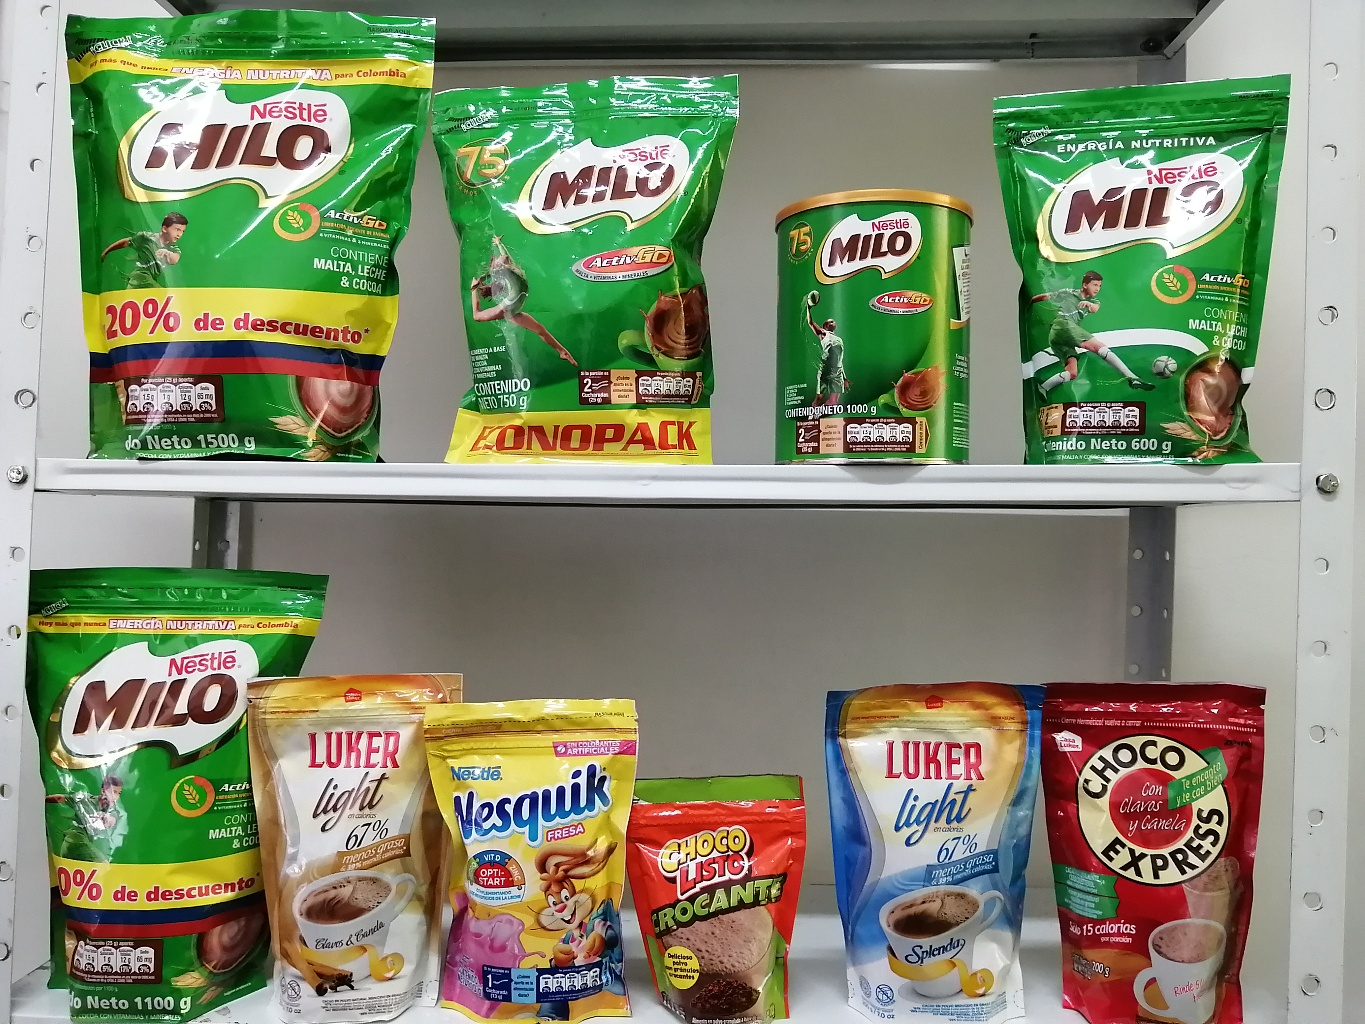COL0170102DYP10000: (643, 779, 811, 1021)
COL0170305DYP20000: (425, 687, 642, 1024)
